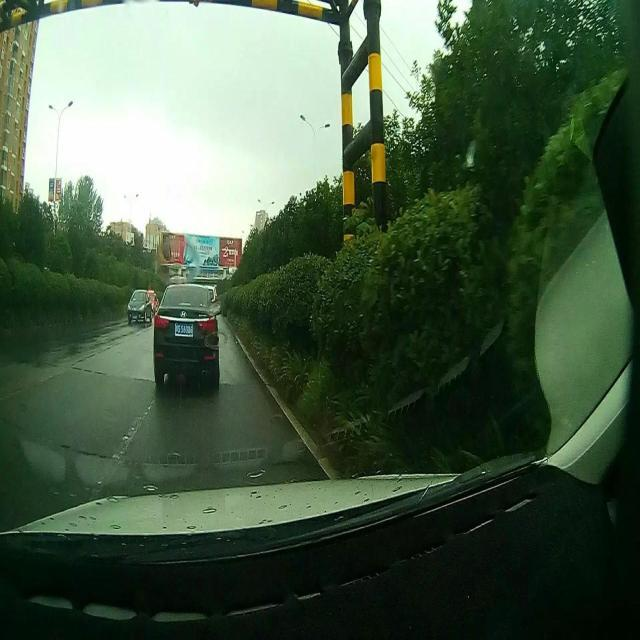car: (152, 284, 218, 392), (125, 290, 153, 326), (148, 285, 160, 319)
